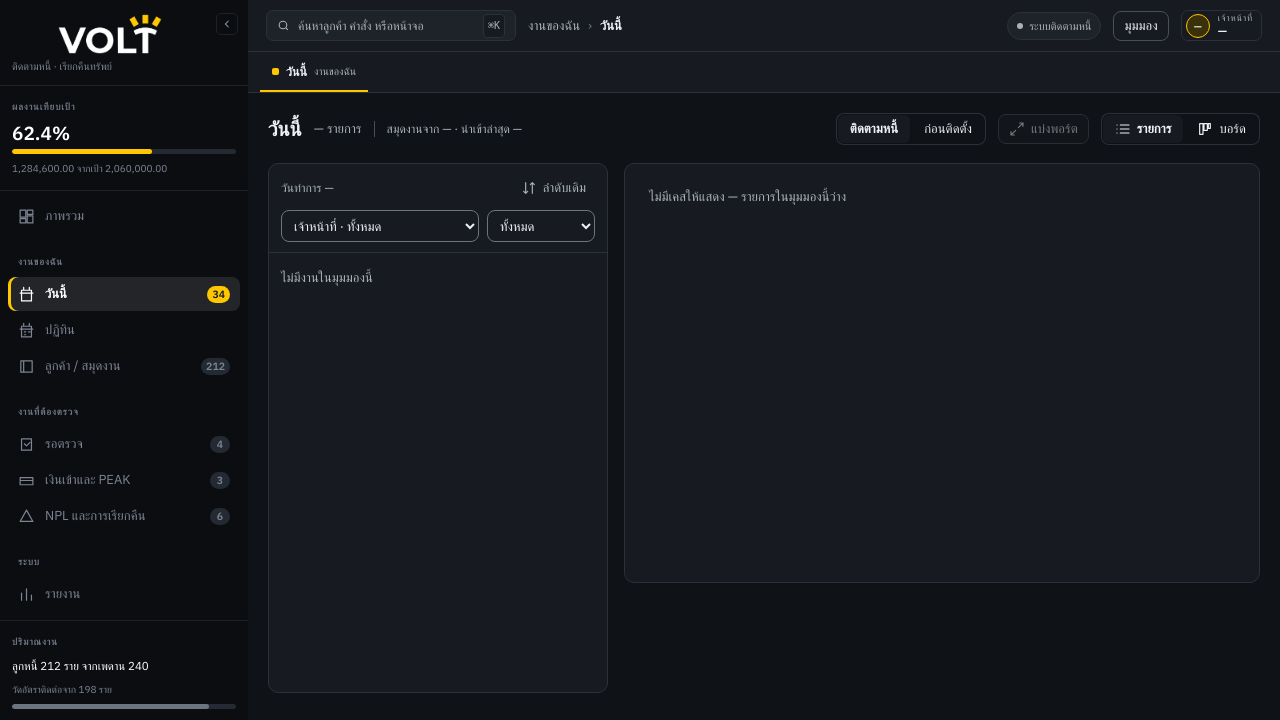
Scenario: the shell › collapses the rail and persists the choice
What coordinates should you click on to do the following:
click the button titled "ย่อแถบนำทาง"
I would click on:
 (227, 24)
Its box is [216,13,238,35].
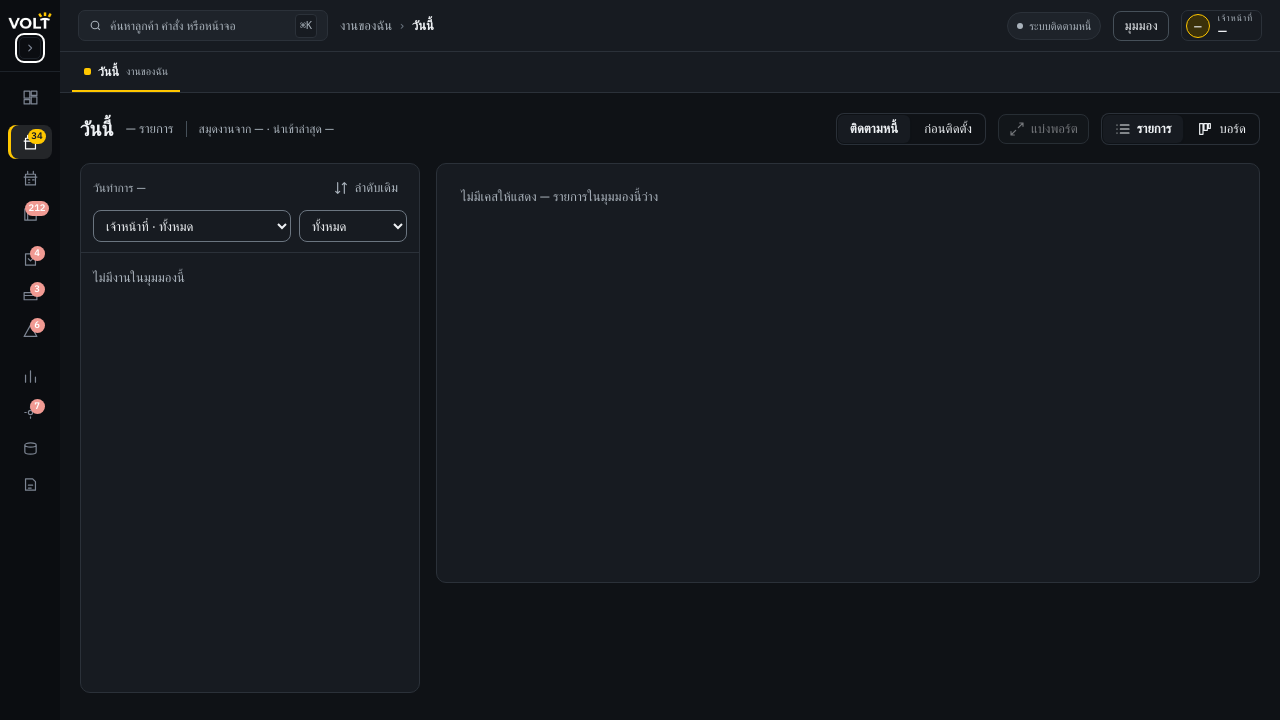
Expected: the text "ปริมาณงาน" is gone
